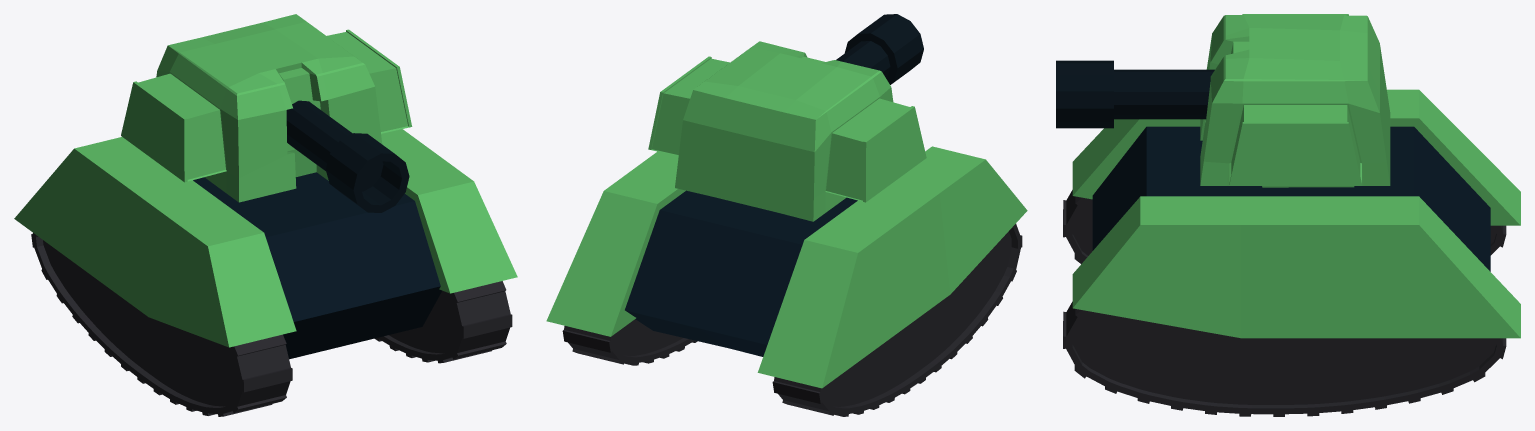
File: tank.fbx
The picture shows the model from 3 angles, left to right: view 1: azimuth 30°, elevation 25°; view 2: azimuth 150°, elevation 25°; view 3: azimuth 270°, elevation 25°; orthographic projection. The views are drawn at different scales.
Parts seen in each view (by area): view 1: tank_originial; view 2: tank_originial; view 3: tank_originial.
Boxes of the visible parts, left/top/right/bottom form: tank_originial: left=14, top=14, right=517, bottom=416; tank_originial: left=546, top=14, right=1027, bottom=416; tank_originial: left=1056, top=14, right=1520, bottom=416.
Bounding box in the file's own units: 249 × 242 × 334.
